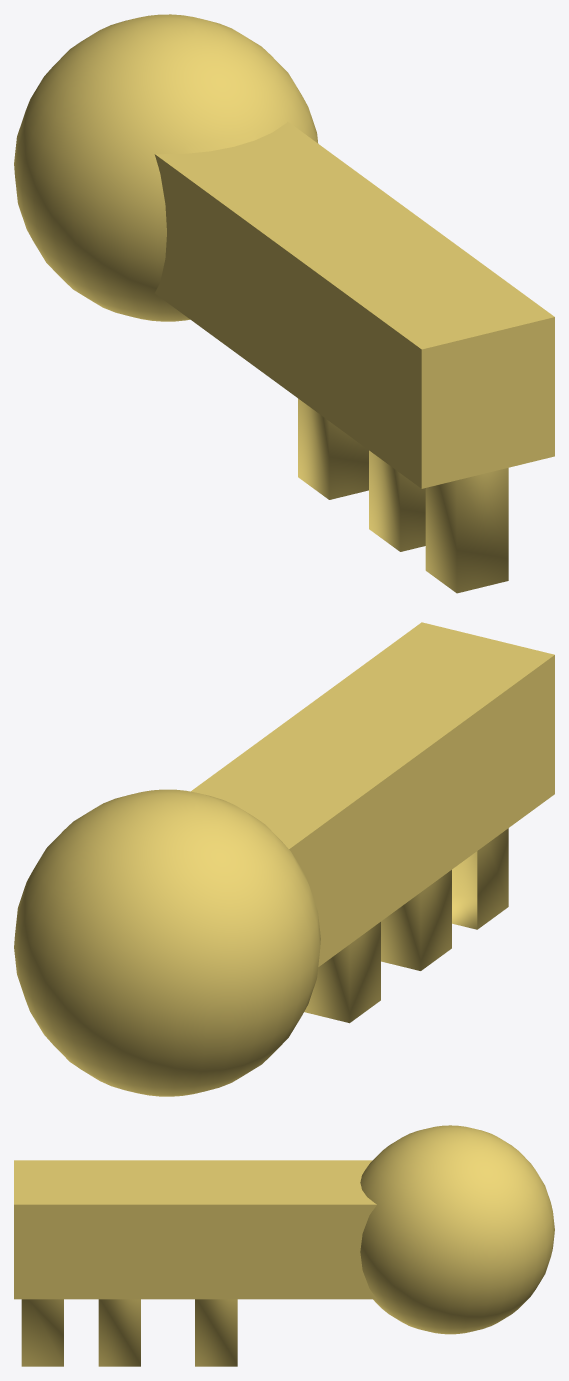
File: key.fbx
3 renders of one model, top to bottom at view 1: azimuth 30°, elevation 25°; view 2: azimuth 150°, elevation 25°; view 3: azimuth 270°, elevation 25°, orthographic. The views are drawn at different scales.
Visible parts, largest first — view 1: Sphere; view 2: Sphere; view 3: Sphere.
Boxes of the visible parts, left/top/right/bottom form: Sphere: left=14, top=14, right=554, bottom=593; Sphere: left=14, top=622, right=554, bottom=1096; Sphere: left=14, top=1125, right=554, bottom=1366.
Bounding box in the file's own units: 80 × 94.04 × 207.
